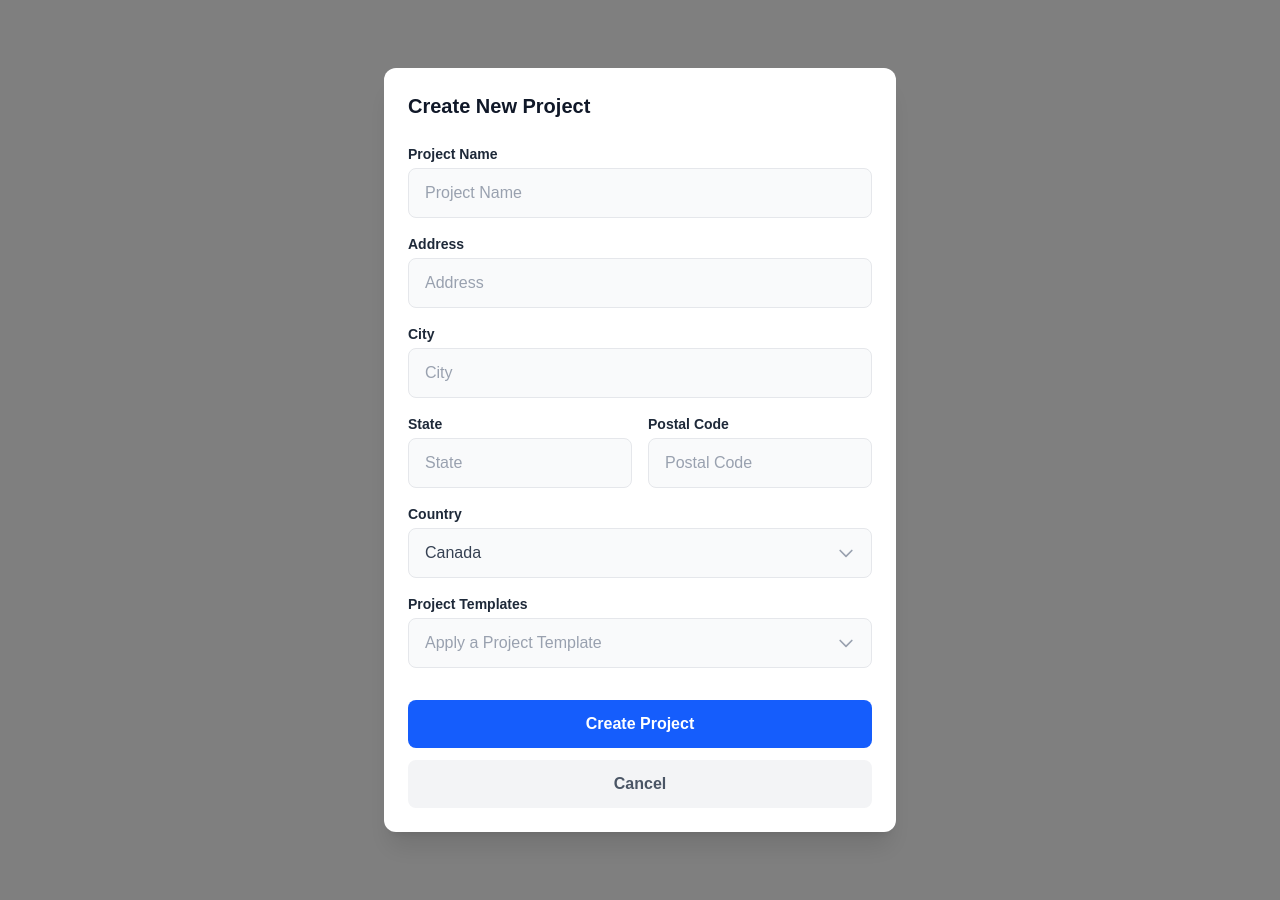
Test: CreateProjectModal › should show error when insert fails
The width and height of the screenshot is (1280, 900).
Type "Test" into the field labelled "Project Name". click: (640, 193)
box: [408,168,872,218]
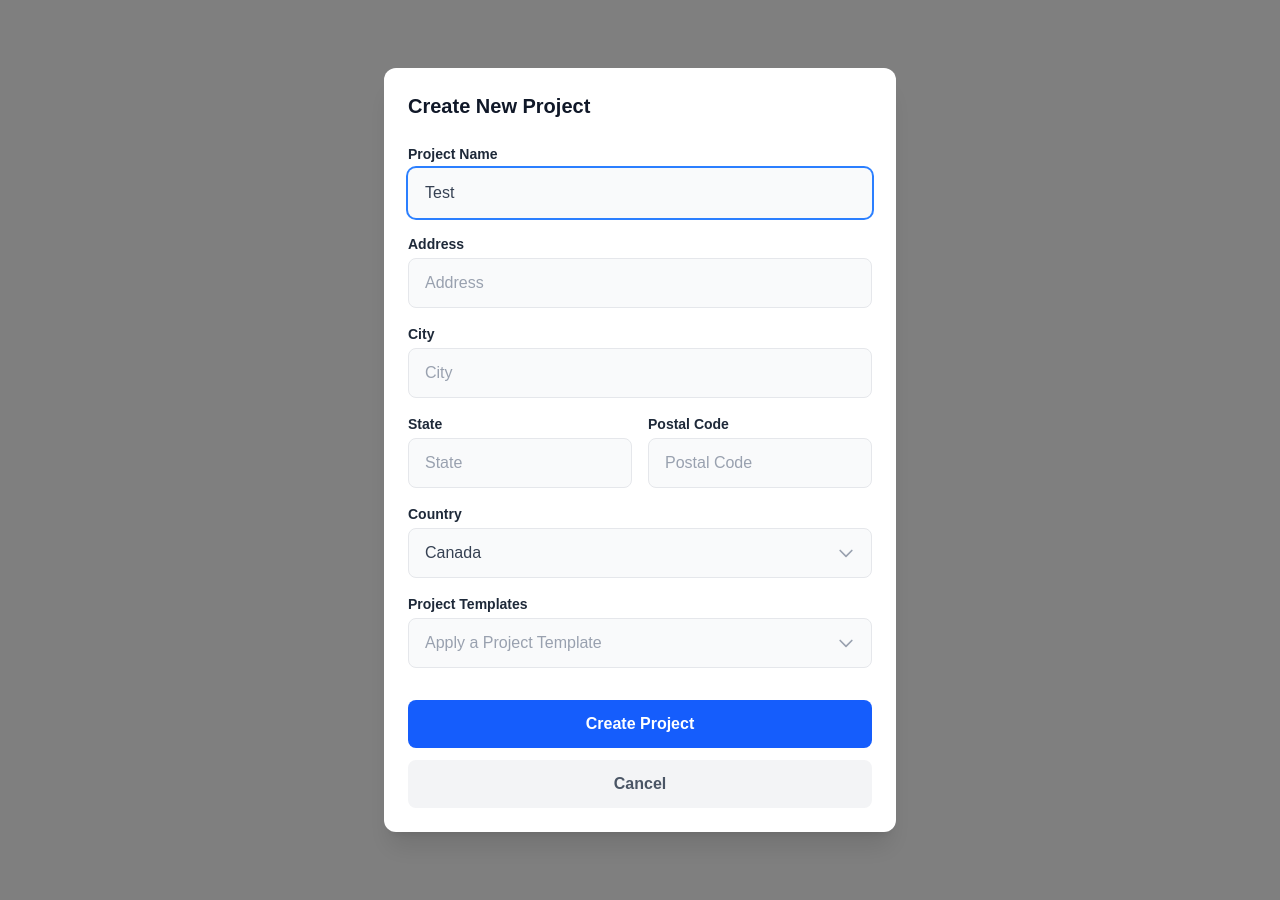
Click the button "Create Project". click: click(640, 724)
box: [408,700,872,748]
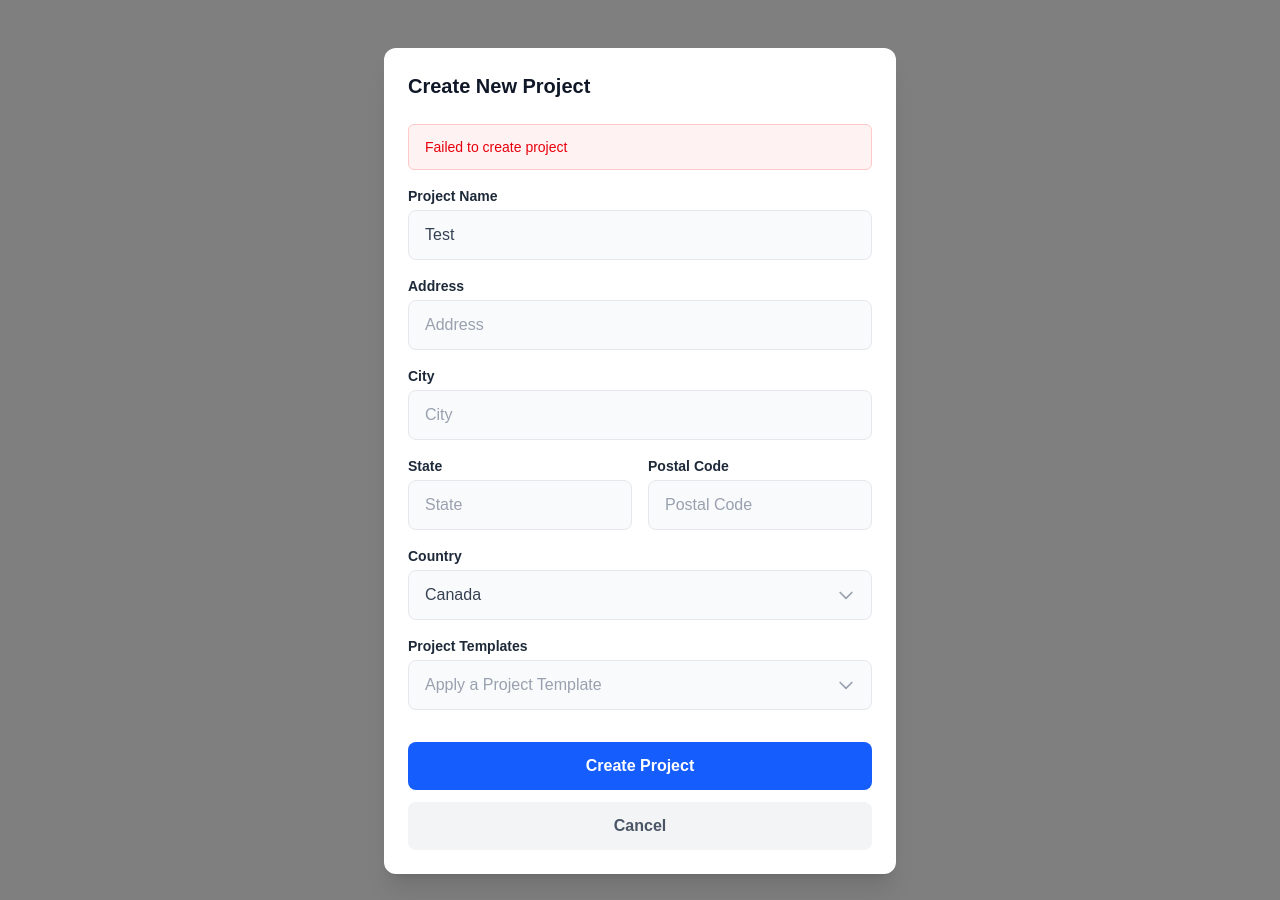
Check: the text "Failed to create project" is shown, box [408,124,872,170]
